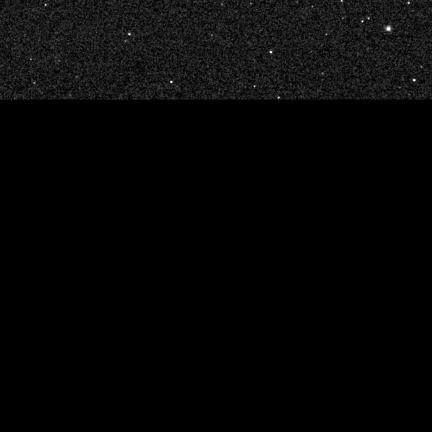blob: (386, 27, 391, 31), (413, 79, 417, 82), (170, 81, 174, 84), (270, 51, 273, 54), (278, 97, 281, 100), (254, 86, 257, 89), (128, 33, 131, 35), (362, 20, 364, 23), (368, 18, 370, 20)
